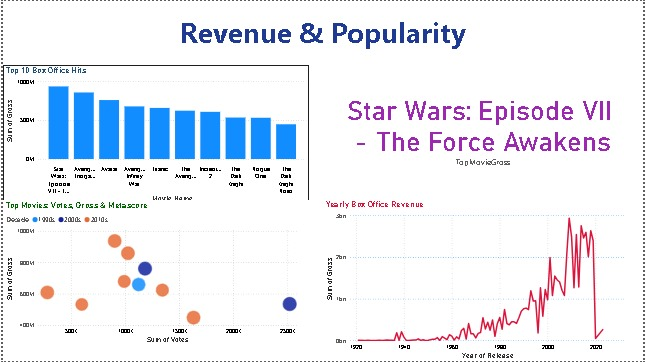

The dashboard page shown, as its layout file describes it:
{"tool":"powerbi","page":{"name":"Page 2","canvas":[1280,720],"ordinal":1},"visuals":[{"type":"clusteredColumnChart","title":"Top 10 Box Office Hits","fields":{"Category":["Cleaned_Top_Ranked_Real_Movies_Dataset.Movie Name"],"Y":["Sum(Cleaned_Top_Ranked_Real_Movies_Dataset.Gross)"]},"box":[0,128,612,280],"z":0},{"type":"scatterChart","title":"Top Movies: Votes, Gross & Metascore","fields":{"Category":["Cleaned_Top_Ranked_Real_Movies_Dataset.Movie Name"],"X":["Sum(Cleaned_Top_Ranked_Real_Movies_Dataset.Votes)"],"Y":["Sum(Cleaned_Top_Ranked_Real_Movies_Dataset.Gross)"],"Size":["Sum(Cleaned_Top_Ranked_Real_Movies_Dataset.Meatscore of movie)"],"Series":["Cleaned_Top_Ranked_Real_Movies_Dataset.csv.Decade"]},"box":[0,397.3,611.8,292.7],"z":1000},{"type":"lineChart","title":"Yearly Box Office Revenue","fields":{"Category":["Cleaned_Top_Ranked_Real_Movies_Dataset.csv.Year of Release"],"Y":["Sum(Cleaned_Top_Ranked_Real_Movies_Dataset.csv.Gross)"]},"box":[640,395,610,325],"z":2000},{"type":"card","fields":{"Values":["Cleaned_Top_Ranked_Real_Movies_Dataset.csv.TopMovieGross"]},"box":[654,128,610,250],"z":3000},{"type":"textbox","box":[148,18,984,110],"z":4000}]}

Visuals, with their boxes in screenshot pixels (x1, y1, x2, y2), scaled from the page's 1280x720 canvas onto the 646x362 screenshot:
"Top 10 Box Office Hits" clusteredColumnChart: {"x1": 0, "y1": 64, "x2": 309, "y2": 205}
"Top Movies: Votes, Gross & Metascore" scatterChart: {"x1": 0, "y1": 200, "x2": 309, "y2": 347}
"Yearly Box Office Revenue" lineChart: {"x1": 323, "y1": 199, "x2": 631, "y2": 361}
card - Cleaned_Top_Ranked_Real_Movies_Dataset.csv.TopMovieGross: {"x1": 330, "y1": 64, "x2": 638, "y2": 190}
textbox: {"x1": 75, "y1": 9, "x2": 571, "y2": 64}
